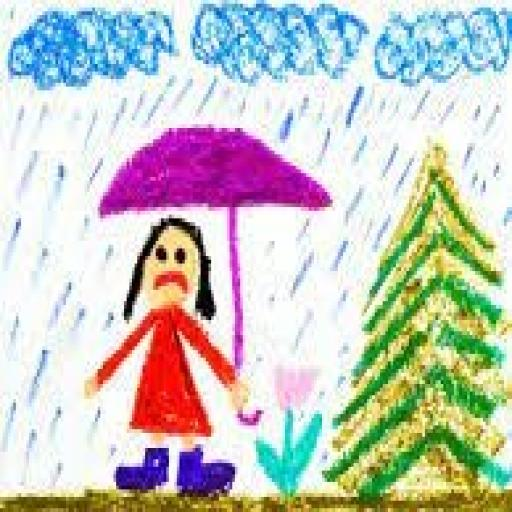person: (80, 214, 254, 494)
